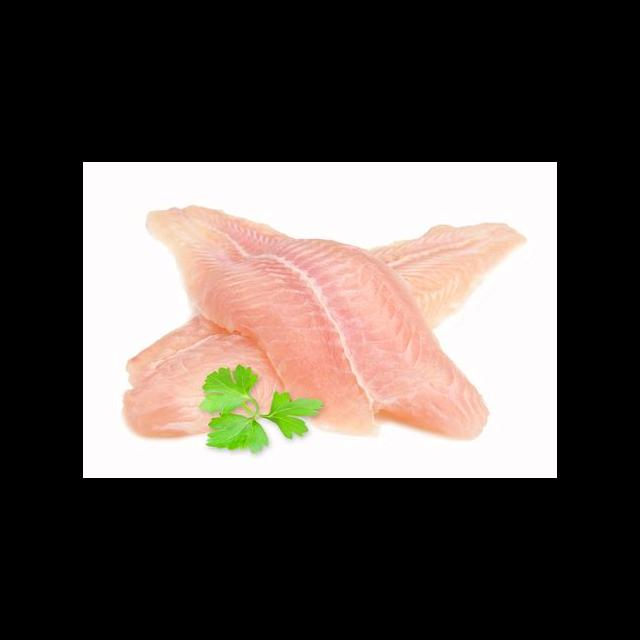fish: (141, 199, 497, 446)
